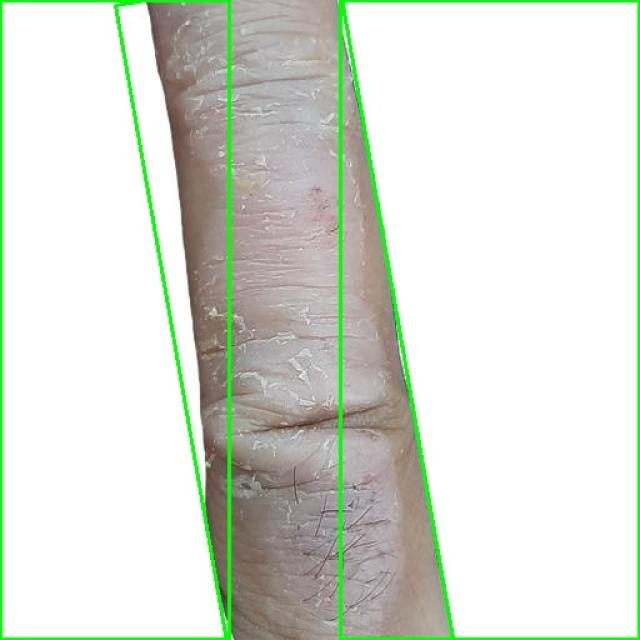Eczema: (115, 0, 454, 640), (340, 0, 639, 639), (0, 0, 229, 639)
